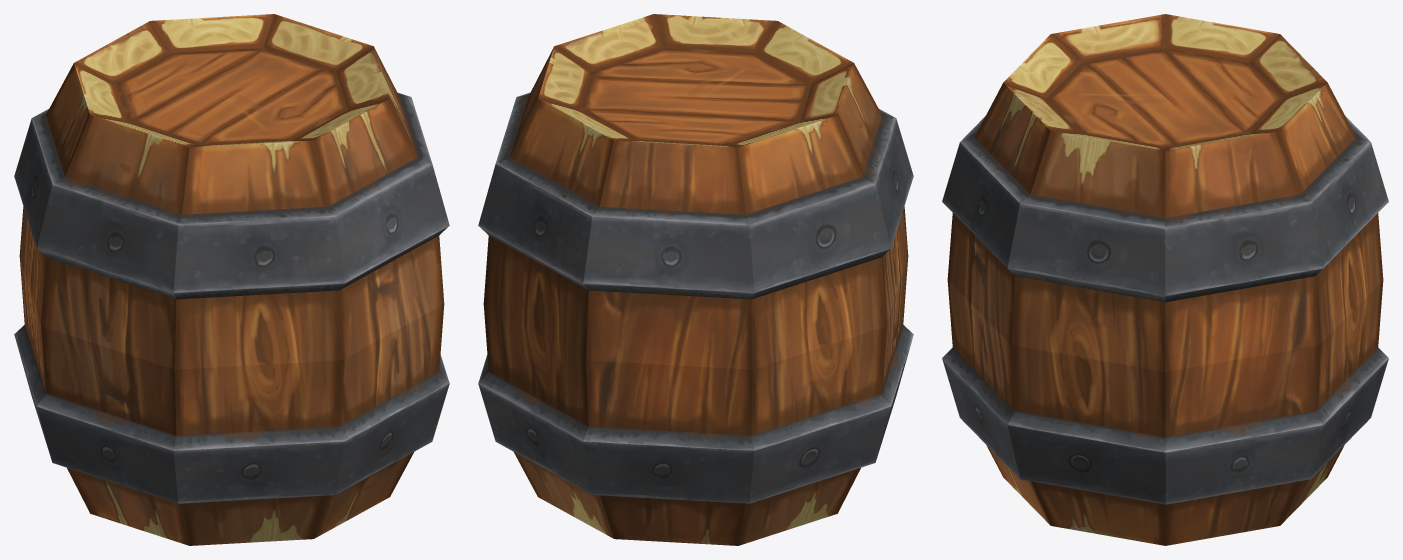
File: barrelCrush.FBX
The picture shows the model from 3 angles, left to right: view 1: azimuth 30°, elevation 25°; view 2: azimuth 150°, elevation 25°; view 3: azimuth 270°, elevation 25°; orthographic projection.
Parts seen in each view (by area): view 1: barrel_05, barrel_13, barrel_11, barrel_10, barrel_03, barrel_02, barrel_04, barrel_12, barrel_06, barrel_07, barrel_01, barrel_09; view 2: barrel_12, barrel_10, barrel_06, barrel_07, barrel_01, barrel_02, barrel_13, barrel_03, barrel_09, barrel_05, barrel_11, barrel_04; view 3: barrel_13, barrel_09, barrel_11, barrel_02, barrel_08, barrel_07, barrel_12, barrel_03, barrel_06, barrel_10, barrel_01, barrel_05.
Boxes of the visible parts, x1=… form: barrel_05: x1=175, y1=140, x2=341, y2=545; barrel_13: x1=178, y1=14, x2=449, y2=355; barrel_11: x1=132, y1=243, x2=449, y2=538; barrel_10: x1=14, y1=109, x2=374, y2=299; barrel_03: x1=41, y1=115, x2=200, y2=399; barrel_02: x1=116, y1=48, x2=347, y2=145; barrel_04: x1=45, y1=300, x2=189, y2=545; barrel_12: x1=14, y1=325, x2=333, y2=503; barrel_06: x1=19, y1=63, x2=127, y2=392; barrel_07: x1=150, y1=14, x2=274, y2=52; barrel_01: x1=74, y1=21, x2=171, y2=83; barrel_09: x1=336, y1=46, x2=417, y2=155; barrel_12: x1=478, y1=297, x2=913, y2=545; barrel_10: x1=496, y1=115, x2=913, y2=299; barrel_06: x1=727, y1=115, x2=886, y2=545; barrel_07: x1=483, y1=99, x2=634, y2=538; barrel_01: x1=586, y1=140, x2=745, y2=428; barrel_02: x1=580, y1=48, x2=811, y2=145; barrel_13: x1=478, y1=14, x2=895, y2=289; barrel_03: x1=800, y1=63, x2=908, y2=384; barrel_09: x1=554, y1=14, x2=664, y2=71; barrel_05: x1=756, y1=21, x2=853, y2=83; barrel_11: x1=478, y1=343, x2=911, y2=494; barrel_04: x1=882, y1=270, x2=905, y2=392; barrel_13: x1=942, y1=82, x2=1388, y2=437; barrel_09: x1=1011, y1=131, x2=1165, y2=545; barrel_11: x1=942, y1=249, x2=1369, y2=525; barrel_02: x1=1046, y1=48, x2=1284, y2=148; barrel_08: x1=1165, y1=276, x2=1319, y2=545; barrel_07: x1=1250, y1=82, x2=1383, y2=525; barrel_12: x1=1270, y1=347, x2=1388, y2=452; barrel_03: x1=1051, y1=14, x2=1165, y2=62; barrel_06: x1=1165, y1=14, x2=1279, y2=62; barrel_10: x1=942, y1=116, x2=1379, y2=203; barrel_01: x1=1250, y1=34, x2=1327, y2=98; barrel_05: x1=1003, y1=34, x2=1080, y2=98.
Size of the model in its own units: 103 by 100 by 103.
